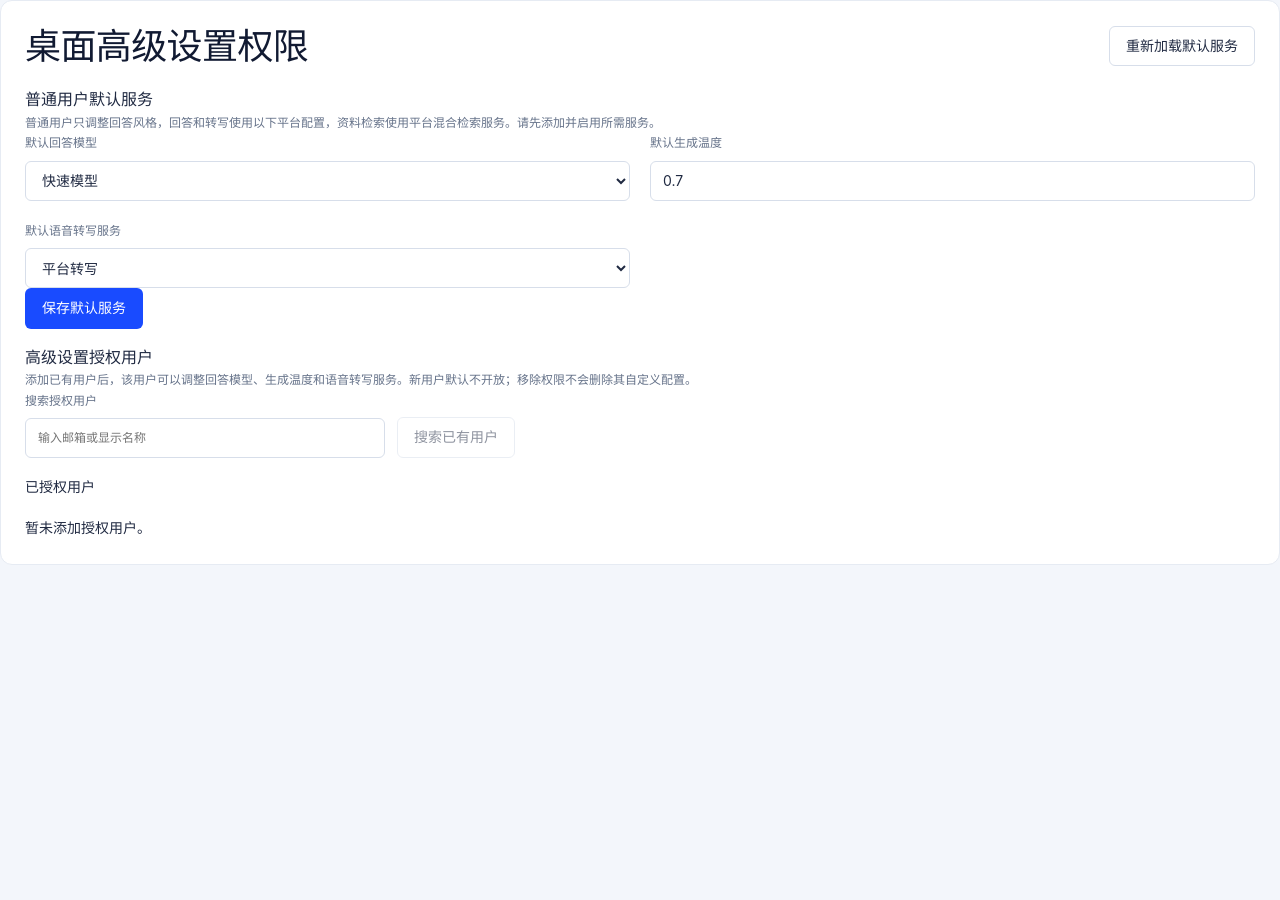
Test: desktop advanced settings policy › selects only enabled services and saves defaults independently
Replace the text in the number field labelled "默认生成温度" with "1" at (952, 181), box [650, 161, 1255, 201]
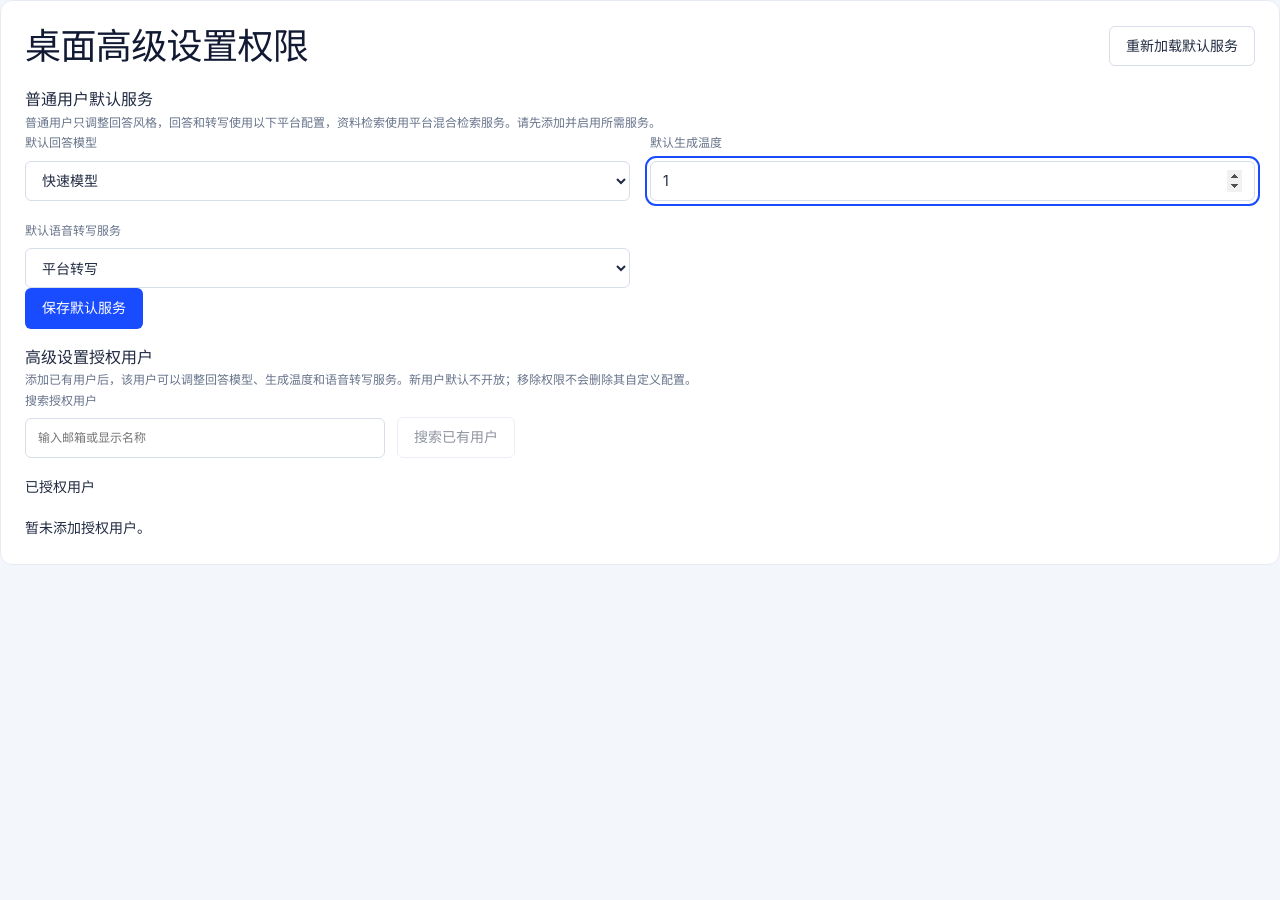
Click the button "保存默认服务" at (84, 308), box [25, 288, 143, 328]
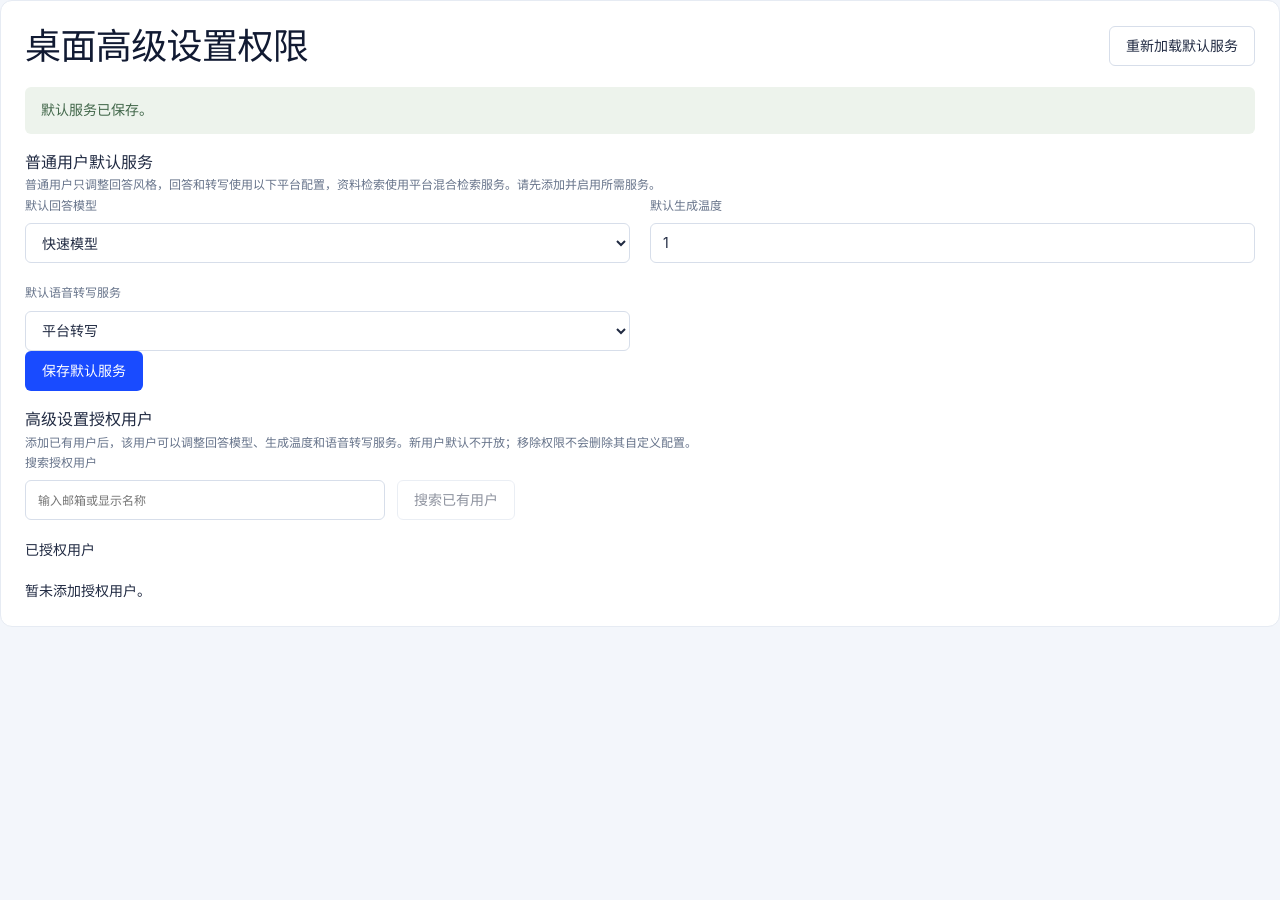
expect the message shows "默认服务已保存": met, box [41, 101, 153, 118]
